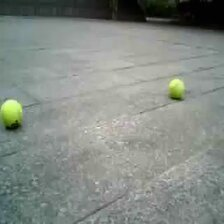tennis: (1, 99, 22, 127), (168, 79, 184, 97)
